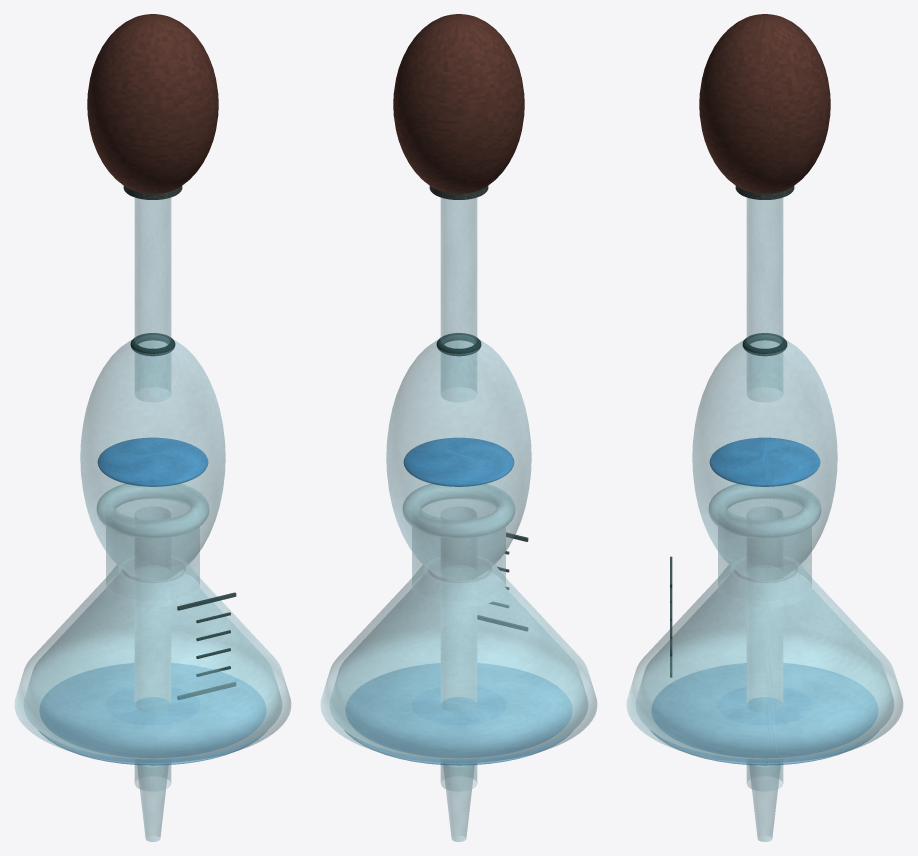
The model's file is alat-17.glb.
The picture shows the model from 3 angles, left to right: view 1: azimuth 30°, elevation 25°; view 2: azimuth 150°, elevation 25°; view 3: azimuth 270°, elevation 25°; orthographic projection.
Visible parts, largest first — view 1: erlenmeyer-9, sphere-1, pipetteFiller-7, liquidSurface-19, tube-0, tube-10, tube-2, pipetteBulbFluid-6, torus-11, cone-3, torus-4; view 2: erlenmeyer-9, sphere-1, pipetteFiller-7, liquidSurface-19, tube-0, tube-10, tube-2, pipetteBulbFluid-6, torus-11, cone-3, torus-4; view 3: erlenmeyer-9, sphere-1, pipetteFiller-7, liquidSurface-19, tube-0, tube-10, tube-2, pipetteBulbFluid-6, torus-11, cone-3, torus-4.
Boxes of the visible parts, left/top/right/bottom form: erlenmeyer-9: left=15, top=564, right=290, bottom=762; sphere-1: left=80, top=335, right=225, bottom=580; pipetteFiller-7: left=87, top=14, right=218, bottom=193; liquidSurface-19: left=38, top=663, right=267, bottom=765; tube-0: left=134, top=197, right=171, bottom=401; tube-10: left=106, top=499, right=199, bottom=606; tube-2: left=134, top=507, right=171, bottom=791; pipetteBulbFluid-6: left=97, top=437, right=208, bottom=486; torus-11: left=97, top=483, right=208, bottom=538; cone-3: left=137, top=765, right=168, bottom=841; torus-4: left=130, top=333, right=175, bottom=356; erlenmeyer-9: left=321, top=564, right=596, bottom=762; sphere-1: left=386, top=335, right=531, bottom=580; pipetteFiller-7: left=393, top=14, right=524, bottom=193; liquidSurface-19: left=344, top=663, right=573, bottom=765; tube-0: left=440, top=197, right=477, bottom=401; tube-10: left=412, top=499, right=505, bottom=606; tube-2: left=440, top=507, right=477, bottom=791; pipetteBulbFluid-6: left=403, top=437, right=514, bottom=486; torus-11: left=403, top=483, right=514, bottom=538; cone-3: left=443, top=765, right=474, bottom=841; torus-4: left=436, top=333, right=481, bottom=356; erlenmeyer-9: left=627, top=564, right=902, bottom=762; sphere-1: left=692, top=335, right=837, bottom=580; pipetteFiller-7: left=699, top=14, right=830, bottom=193; liquidSurface-19: left=650, top=663, right=879, bottom=765; tube-0: left=746, top=197, right=783, bottom=401; tube-10: left=718, top=499, right=811, bottom=606; tube-2: left=746, top=507, right=783, bottom=791; pipetteBulbFluid-6: left=709, top=437, right=820, bottom=486; torus-11: left=709, top=483, right=820, bottom=538; cone-3: left=749, top=765, right=780, bottom=841; torus-4: left=742, top=333, right=787, bottom=356.
Bounding box in the file's own units: 1.6 × 5.23 × 1.6.
20 materials, 20 textured.
